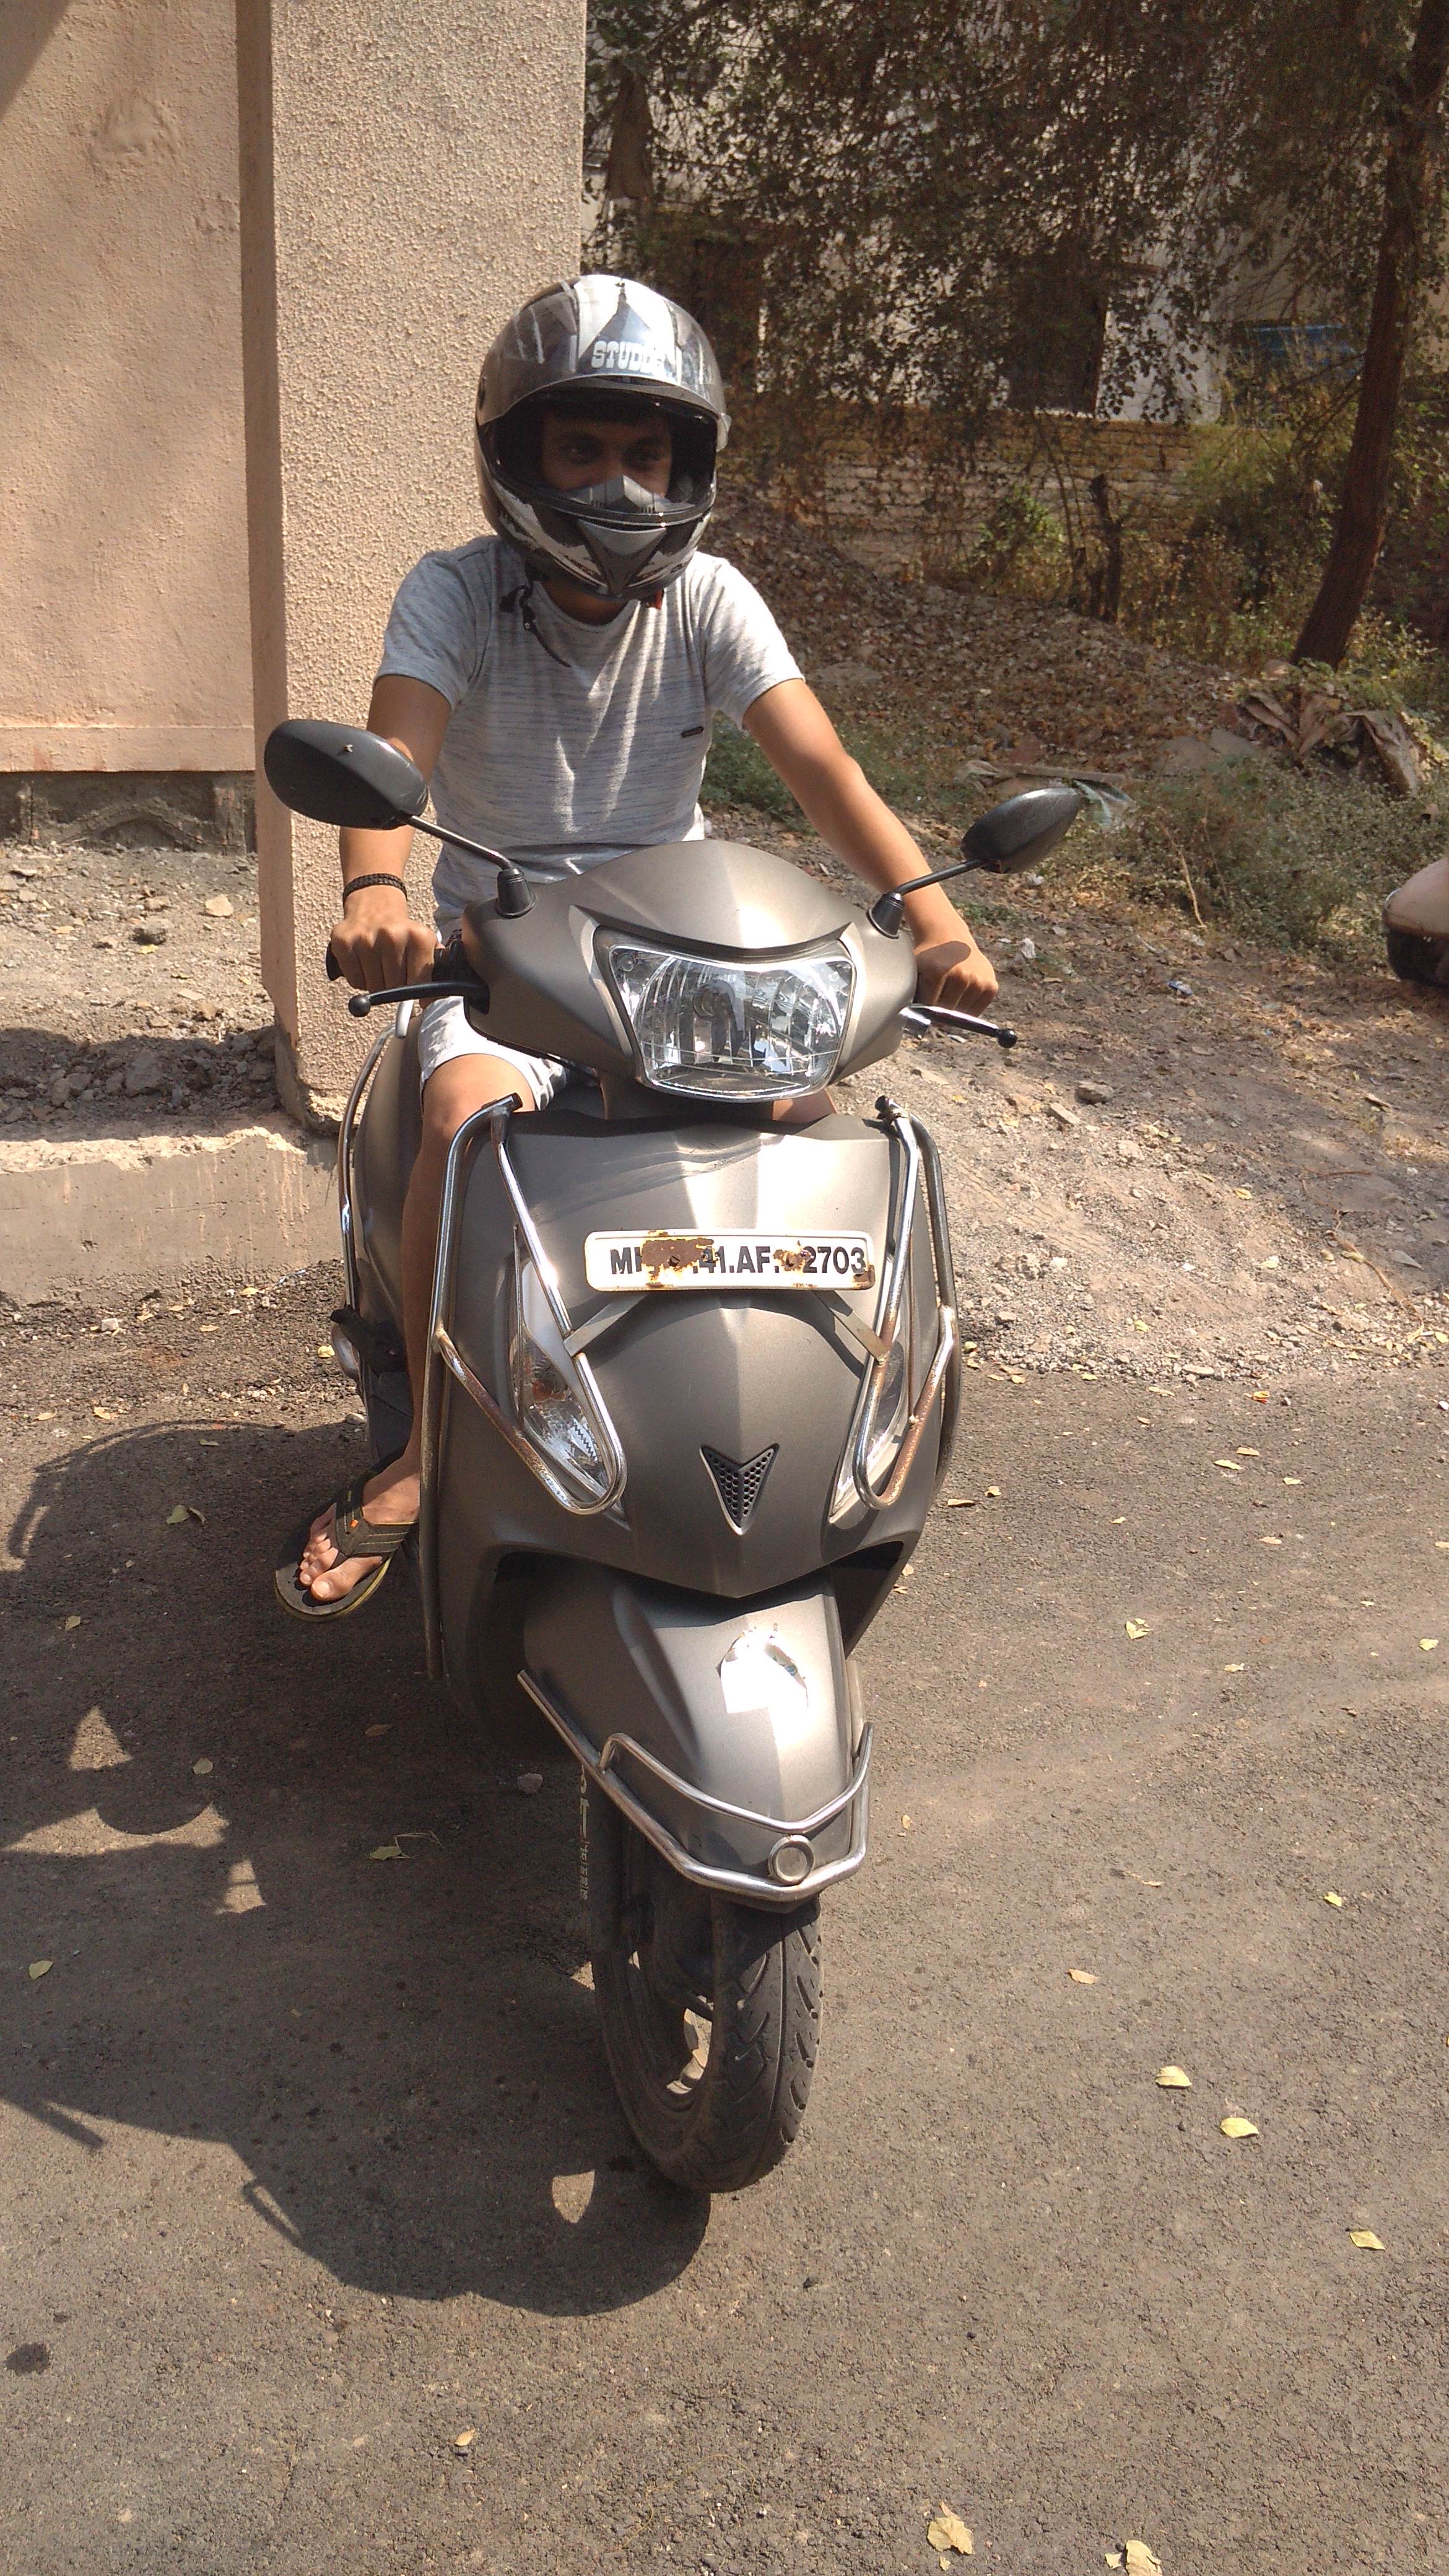helmet: (241, 232, 984, 1415)
